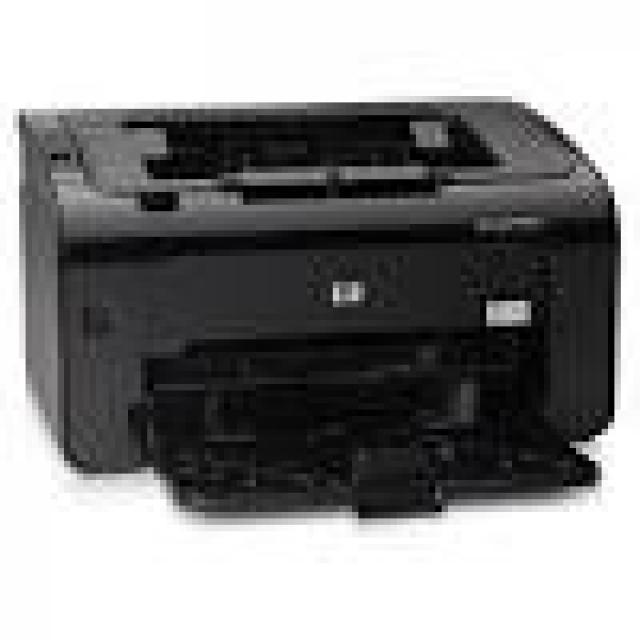printer: (11, 86, 626, 532)
